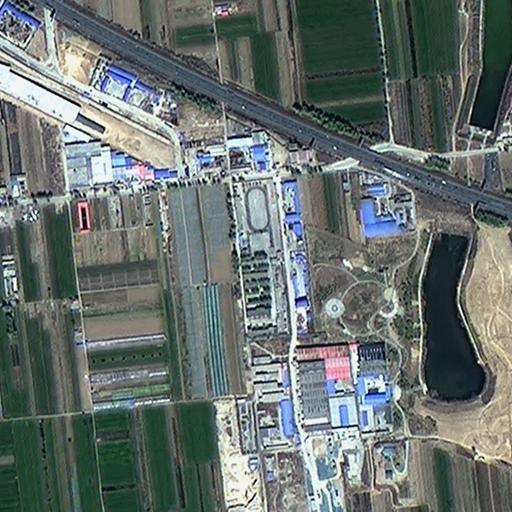school: (235, 174, 289, 340)
